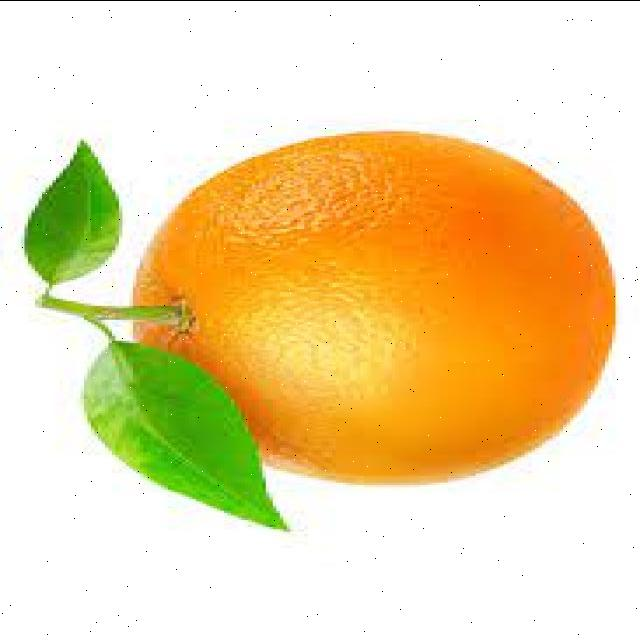Orange: (130, 129, 616, 487)
